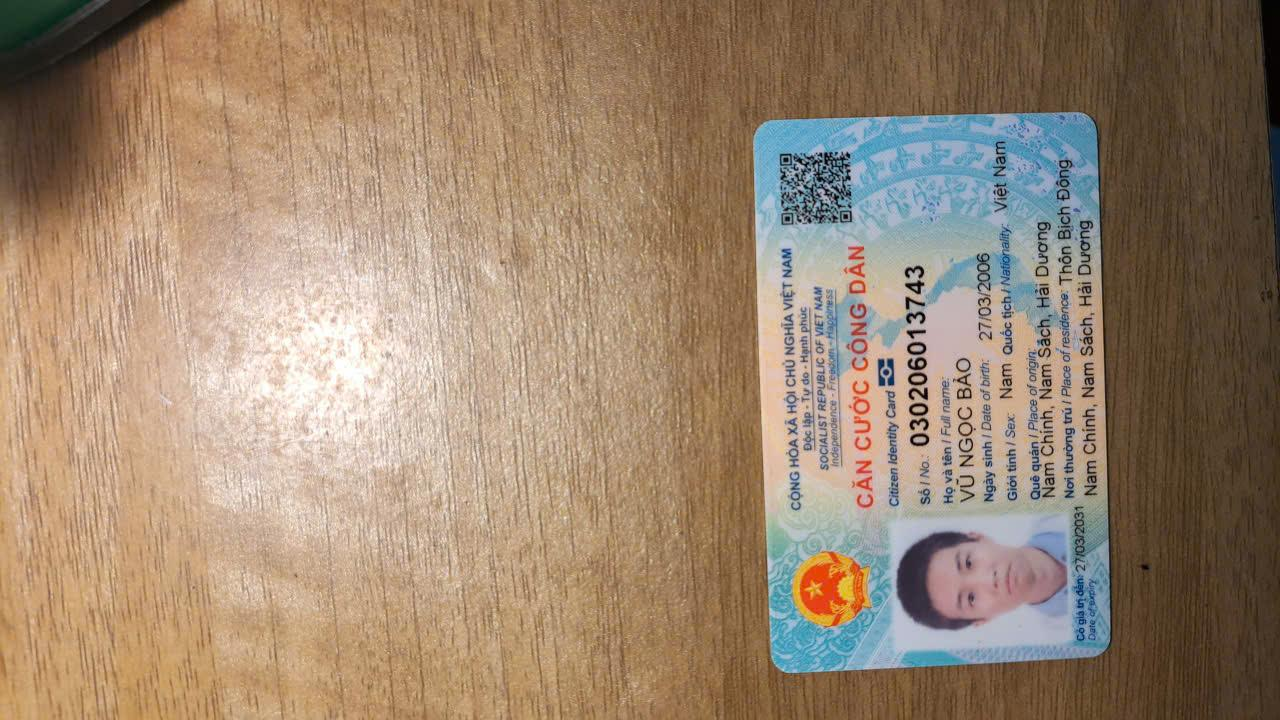cccd: (738, 108, 1116, 678)
